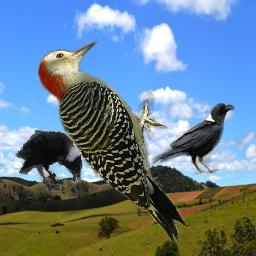Crow: (150, 100, 237, 176), (15, 129, 83, 192)
Woodpecker: (33, 41, 189, 244)
